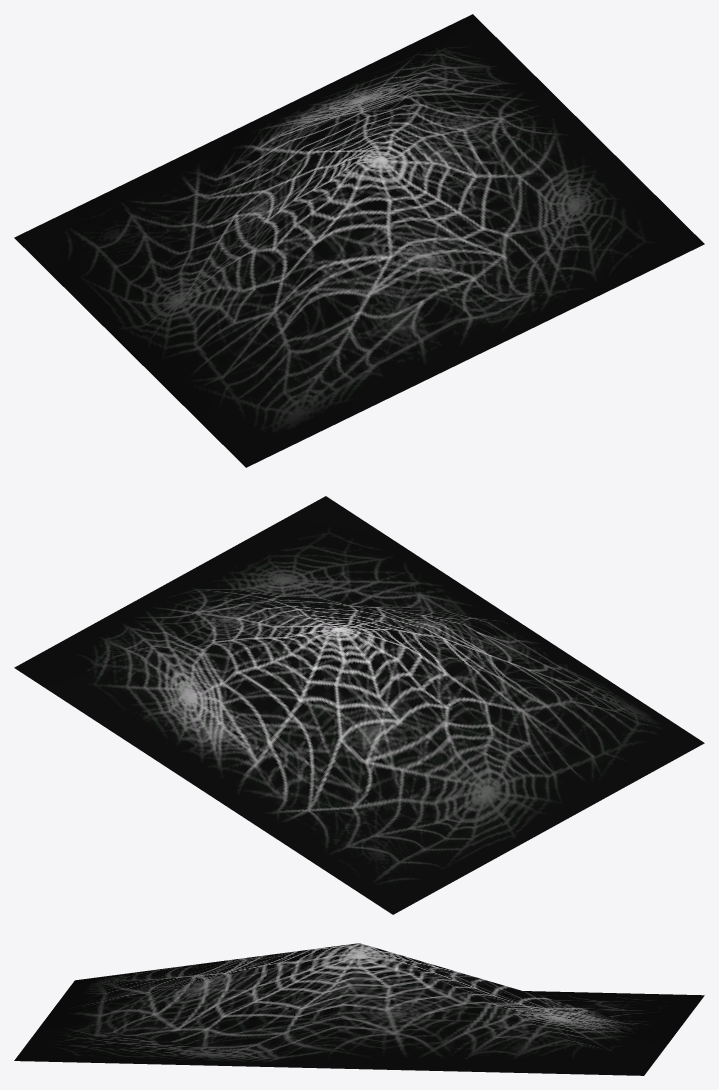
File: MIRKWOOD_PLANE05.fbx
3 views of the same model, one above another, from view 1: azimuth 30°, elevation 25°; view 2: azimuth 150°, elevation 25°; view 3: azimuth 270°, elevation 25° (orthographic). The views are drawn at different scales.
Parts seen in each view (by area): view 1: MIRKWOOD_PLANE05; view 2: MIRKWOOD_PLANE05; view 3: MIRKWOOD_PLANE05.
Boxes of the visible parts, bbox=[...] form: MIRKWOOD_PLANE05: bbox=[14, 14, 704, 467]; MIRKWOOD_PLANE05: bbox=[14, 496, 704, 914]; MIRKWOOD_PLANE05: bbox=[14, 943, 704, 1075].
Bounding box in the file's own units: 114306 × 34223 × 127232.
1 material, 1 textured.
